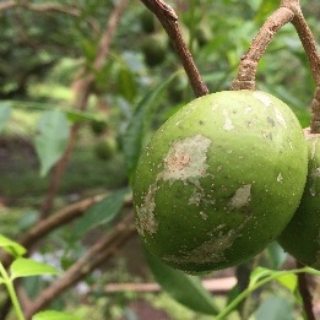coc: (132, 88, 306, 272)
